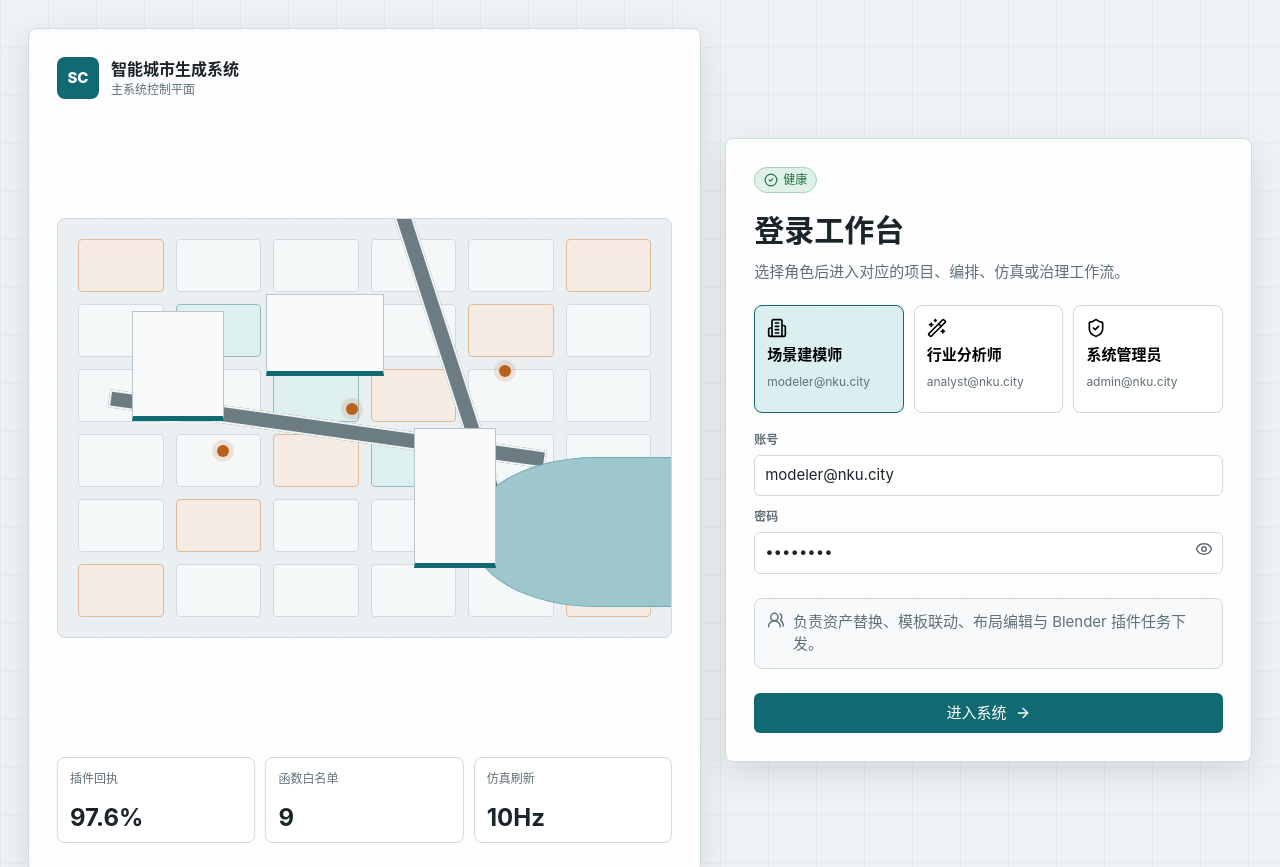
Test: App › logs in as modeler and opens the modeler portal
The image size is (1280, 867).
Click the button "进入系统": (989,713) [754,692,1223,733]
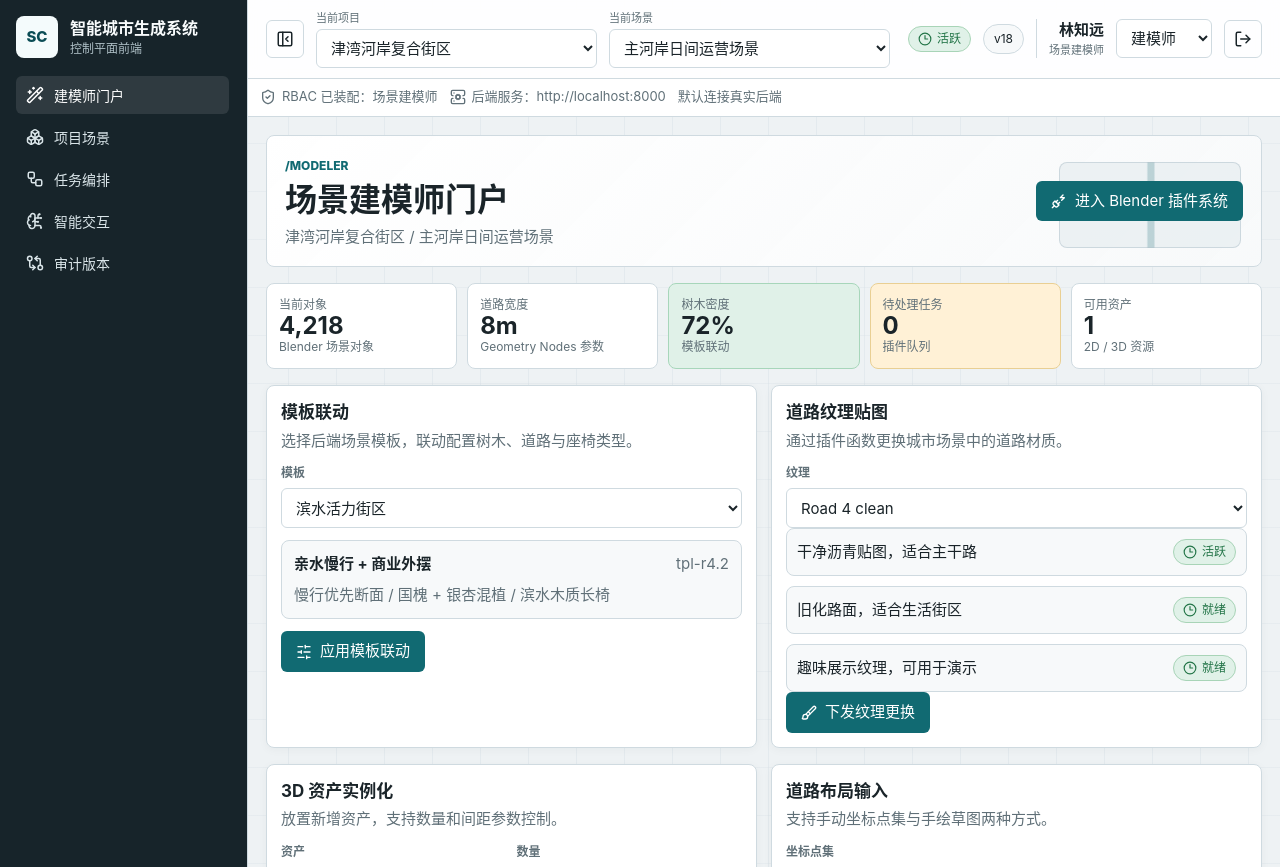
expect the heading "场景建模师门户" is shown: met, box [285,180,509,219]
expect the text "津湾河岸复合街区 / 主河岸日间运营场景" is shown: met, box [285,226,554,248]
